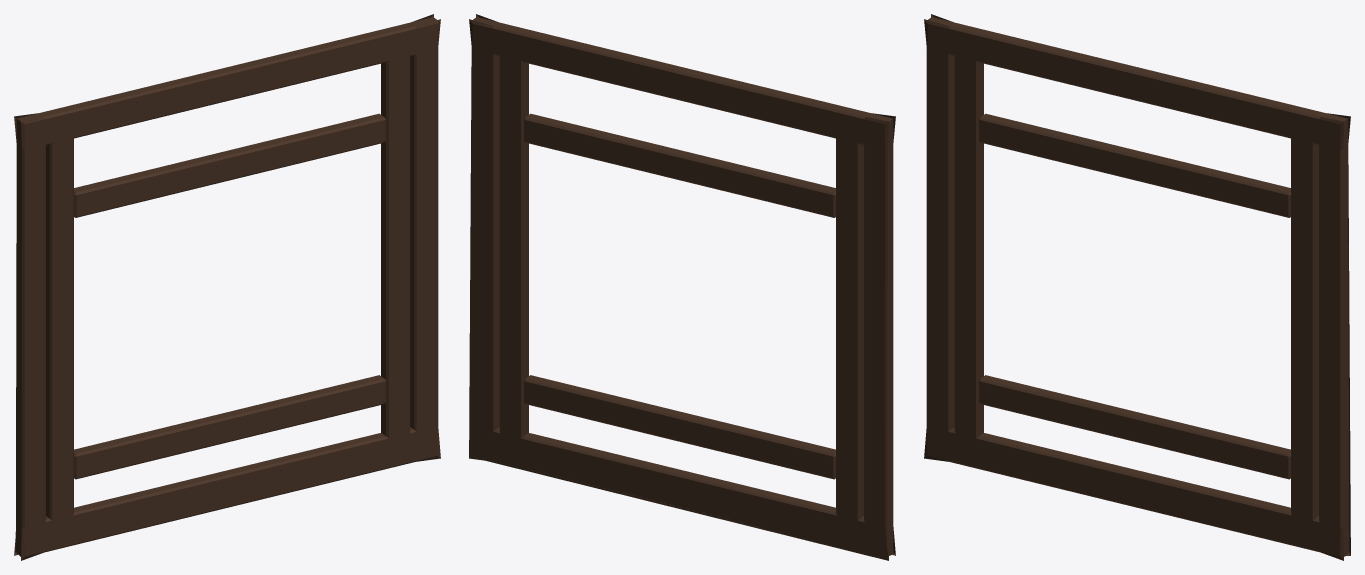
File: timber_shop_w12.fbx
3 views of the same model, side by side, from view 1: azimuth 30°, elevation 25°; view 2: azimuth 150°, elevation 25°; view 3: azimuth 330°, elevation 25° (orthographic).
Visible parts, largest first — view 1: timber_shop_w12; view 2: timber_shop_w12; view 3: timber_shop_w12.
Part boxes in pixels (x1,y1,x2,y2): timber_shop_w12: [14, 14, 440, 560]; timber_shop_w12: [469, 14, 895, 560]; timber_shop_w12: [924, 14, 1350, 560].
Size of the model in its own units: 1210 by 1210 by 35.
